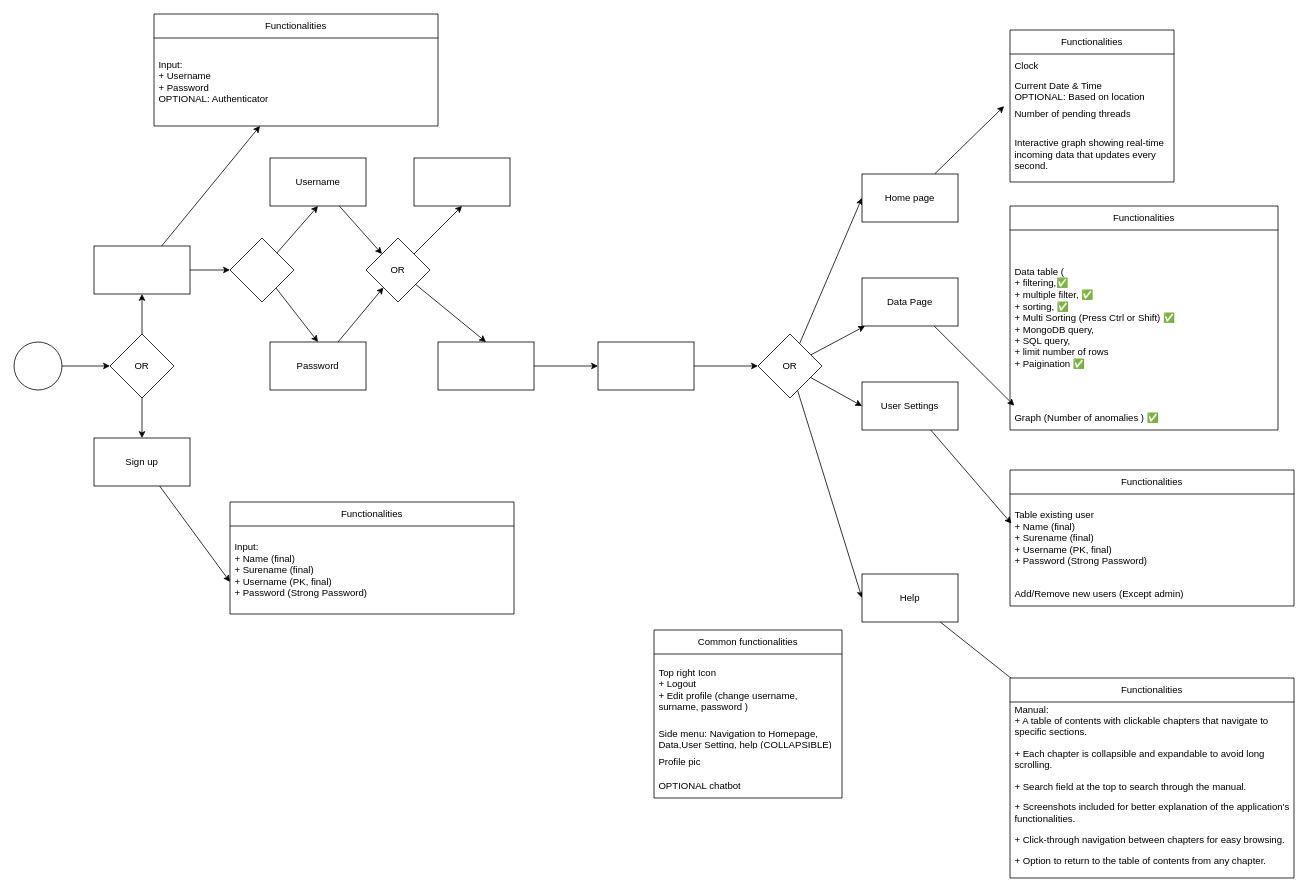
Some shapes in this 1308 by 892 pixel diagram are drawn without their labels. The centre of each missing label's shape, as x and y in pixels:
"AND" goes at [261,269].
"Fail log in attemp (Max 4)" goes at [461,181].
"Forward to HomePage" goes at [645,365].
"Login" goes at [141,269].
"Success" goes at [485,365].
"User" goes at [37,365].
